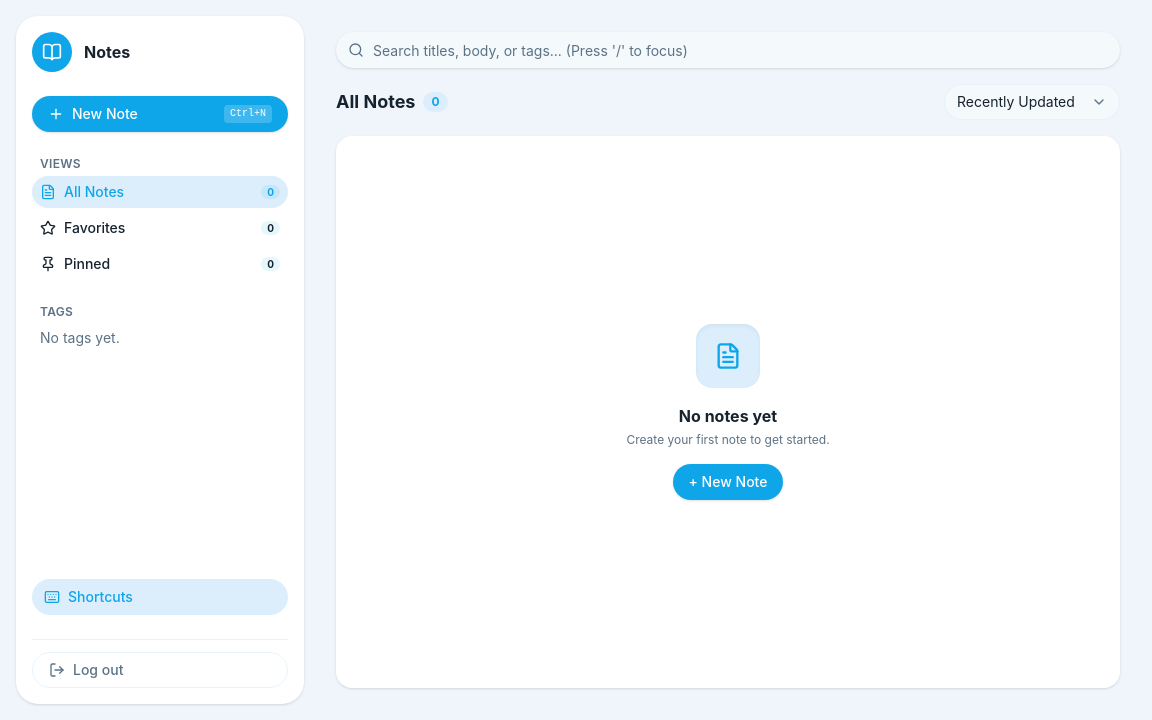
Test: NotesApp › shows the active view's label as the list heading
Click the button "Pinned 0" at (160, 264), box x1=32 y1=248 x2=288 y2=280
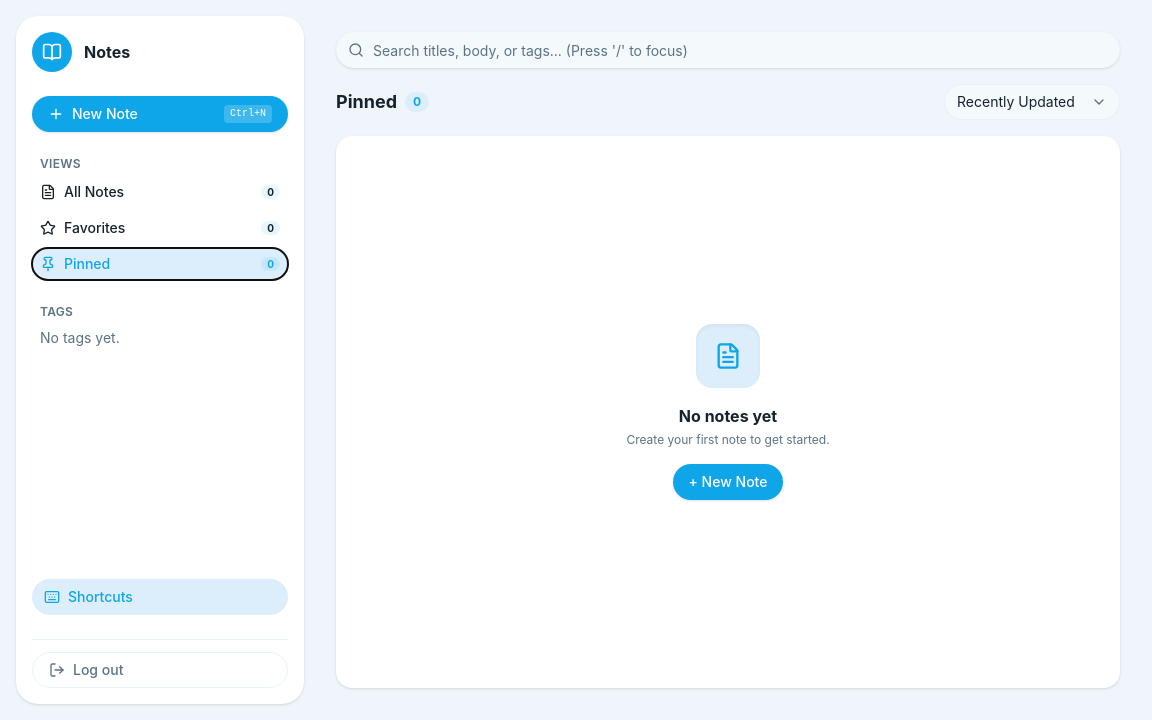
Result: the heading "Pinned 0" is shown at x1=336 y1=88 x2=429 y2=116
